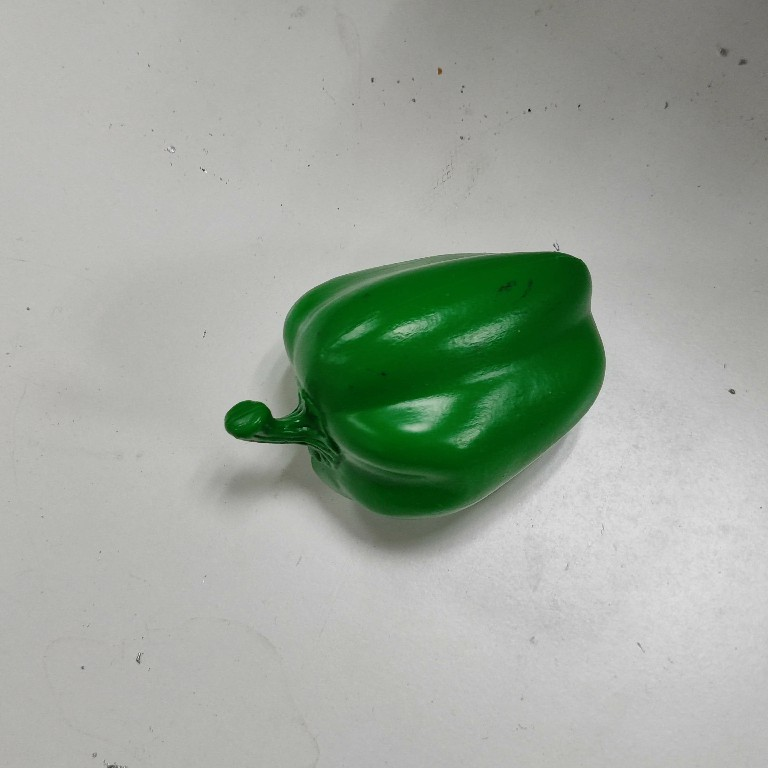fruit_pepper: (219, 244, 611, 526)
